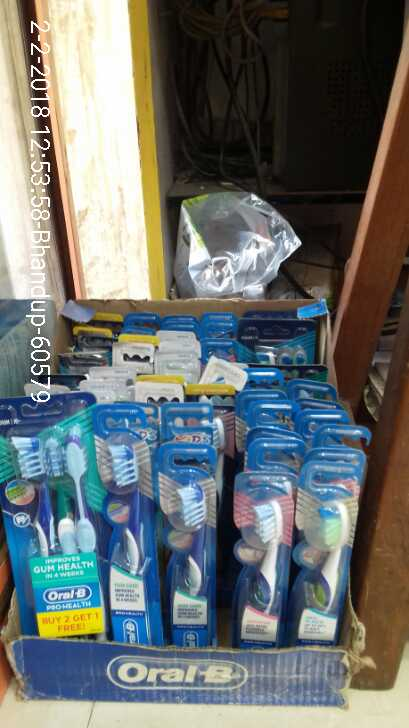oralb: (6, 419, 105, 634), (146, 470, 218, 651), (229, 476, 290, 658), (291, 476, 350, 645), (104, 436, 147, 654)
